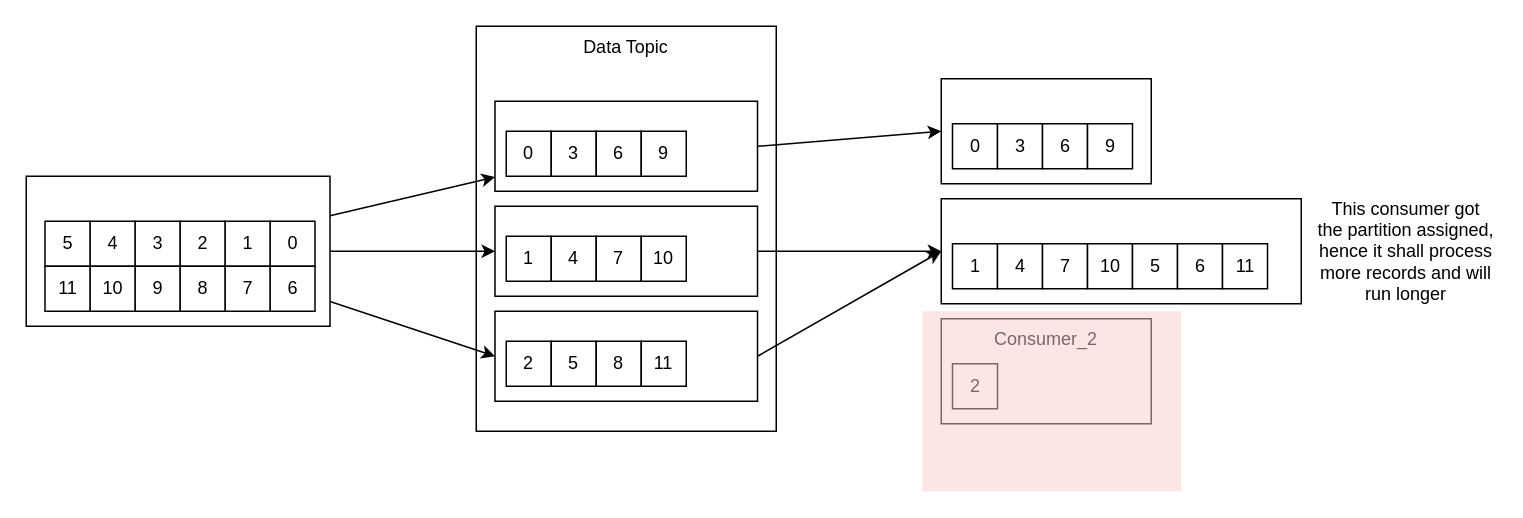
Image size: 1523x518. Some labels were removed from this diagram. Each missing label, with the box of its shape:
Consumer crashed after first record: (922, 310, 1180, 490)
Consumer_0: (940, 77, 1151, 184)
Consumer_1: (940, 197, 1301, 304)
Partition_0: (494, 100, 758, 191)
Partition_1: (494, 205, 758, 296)
Partition_2: (494, 310, 758, 401)
Producer: (25, 175, 330, 326)
